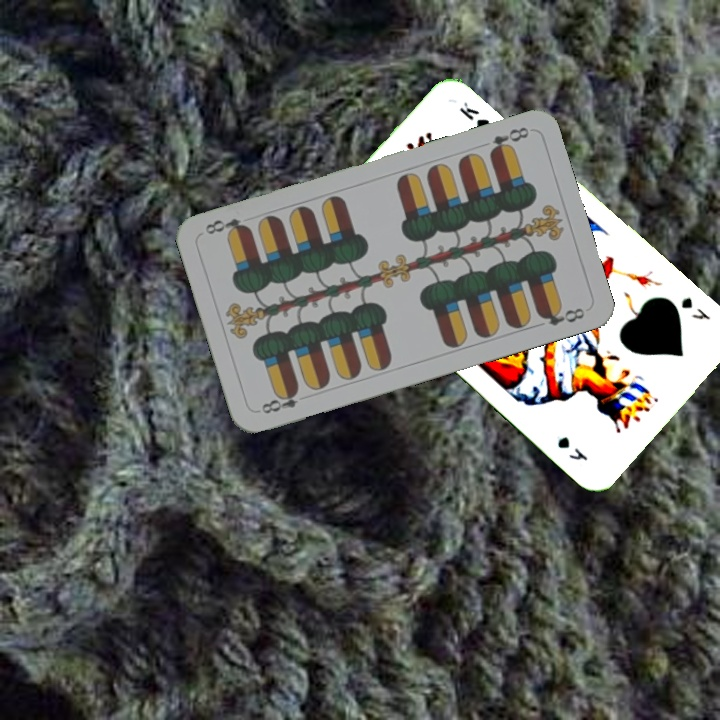E8: (485, 122, 532, 158), (257, 384, 302, 417)
GK: (676, 292, 714, 323)
